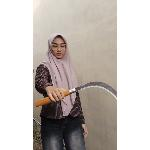Celurit: (35, 77, 118, 111)
